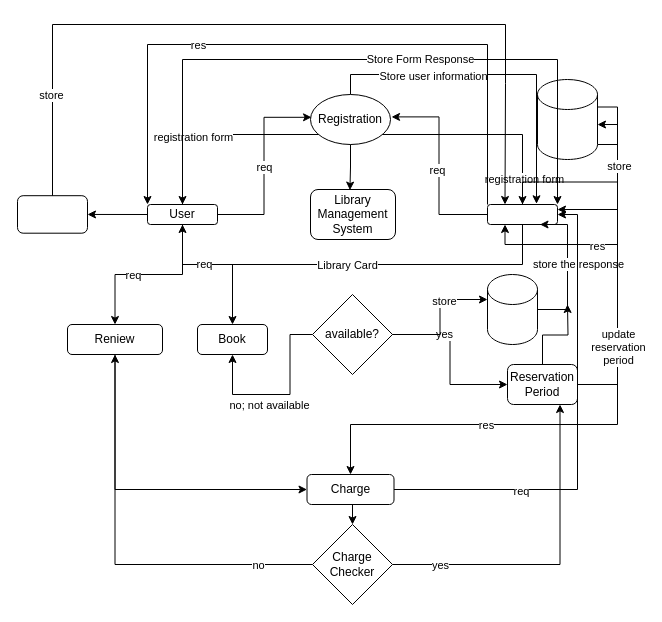
The diagram is 662 pixels wide and 622 high, and some of its shapes have lost their labels. The box of each missing label's shape, as (x1, y1, x2, y2) in pixels:
Database: (536, 78, 598, 160)
Feedback Form: (16, 195, 88, 233)
Librarian: (486, 204, 558, 224)
Local Storage: (486, 274, 538, 344)
